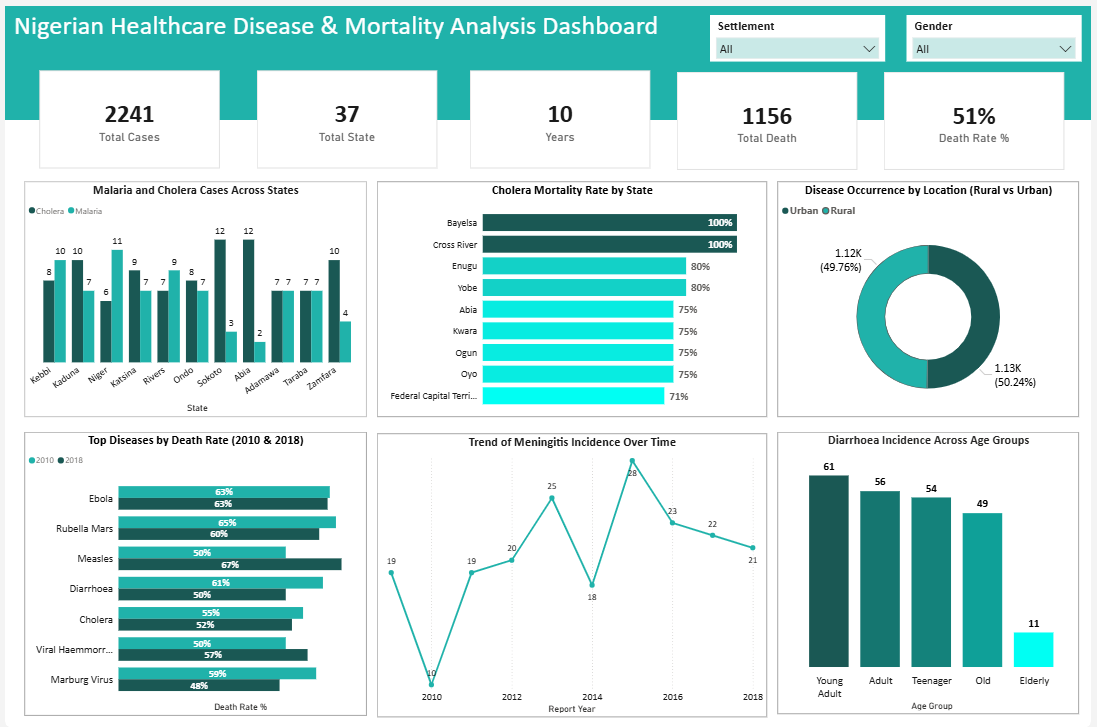

The page's visual inventory and layout, read from the dashboard file:
{"tool":"powerbi","page":{"name":"Dashboard Overview","canvas":[1805,1200],"ordinal":1},"visuals":[{"type":"shape","box":[29.1,14.6,1756.4,1166.9],"z":0},{"type":"shape","box":[29.1,14.6,1756.4,184.4],"z":1000},{"type":"card","fields":{"Values":["Disease dataset.Total State"]},"box":[436.7,118.9,291.1,157.7],"z":2000},{"type":"card","fields":{"Values":["Disease dataset.Total Cases"]},"box":[84.9,118.9,291.1,157.7],"z":3000},{"type":"card","fields":{"Values":["Disease dataset.Years"]},"box":[781.1,118.9,291.1,157.7],"z":4000},{"type":"card","fields":{"Values":["Disease dataset.Total Death"]},"box":[1115.9,121.3,291.1,157.7],"z":5000},{"type":"clusteredColumnChart","title":"Malaria and Cholera Cases Across States","fields":{"Category":["Disease dataset.State"],"Series":["Disease dataset.Disease"],"Y":["Disease dataset.Total Cases"]},"box":[60.6,298.4,553.1,380.9],"z":6000},{"type":"card","fields":{"Values":["Disease dataset.Death Rate %"]},"box":[1450.7,121.3,291.1,157.7],"z":7000},{"type":"donutChart","title":"Disease Occurrence by Location (Rural vs Urban)","fields":{"Category":["Disease dataset.Settlement"],"Y":["CountNonNull(Disease dataset.Disease)"]},"box":[1278.5,298.4,487.6,380.9],"z":8000},{"type":"clusteredBarChart","title":"Top Diseases by Death Rate (2010 & 2018)","fields":{"Category":["Disease dataset.Disease"],"Y":["Disease dataset.Death Rate %"],"Series":["Disease dataset.Report Year"]},"box":[60.6,703.5,553.1,458.5],"z":9000},{"type":"lineChart","title":"Trend of Meningitis Incidence Over Time","fields":{"Y":["Disease dataset.Total Cases"],"Category":["Disease dataset.Report Year"]},"box":[630.7,705.9,630.7,458.5],"z":10000},{"type":"columnChart","title":"Diarrhoea Incidence Across Age Groups","fields":{"Category":["Disease dataset.Age Group"],"Y":["CountNonNull(Disease dataset.Disease)"]},"box":[1278.5,703.5,487.6,456.1],"z":11000},{"type":"clusteredBarChart","title":"Cholera Mortality Rate by State","fields":{"Category":["Disease dataset.State"],"Y":["Disease dataset.Cholera Death Rate %"]},"box":[630.7,298.4,630.7,380.9],"z":12000},{"type":"textbox","box":[29.7,13.5,1087.6,91.8],"z":13000},{"type":"slicer","fields":{"Values":["Disease dataset.Gender"]},"box":[1487.9,29.7,283,75.6],"z":14000},{"type":"slicer","fields":{"Values":["Disease dataset.Settlement"]},"box":[1168.5,29.7,283.4,75.6],"z":15000}]}

Visuals, with their boxes in screenshot pixels (x1, y1, x2, y2), scaled from the page's 1805x1200 canvas onto the 1097x727 screenshot:
shape: BBox(18, 9, 1085, 716)
shape: BBox(18, 9, 1085, 121)
card - Disease dataset.Total State: BBox(265, 72, 442, 168)
card - Disease dataset.Total Cases: BBox(52, 72, 229, 168)
card - Disease dataset.Years: BBox(475, 72, 652, 168)
card - Disease dataset.Total Death: BBox(678, 73, 855, 169)
"Malaria and Cholera Cases Across States" clusteredColumnChart: BBox(37, 181, 373, 412)
card - Disease dataset.Death Rate %: BBox(882, 73, 1059, 169)
"Disease Occurrence by Location (Rural vs Urban)" donutChart: BBox(777, 181, 1073, 412)
"Top Diseases by Death Rate (2010 & 2018)" clusteredBarChart: BBox(37, 426, 373, 704)
"Trend of Meningitis Incidence Over Time" lineChart: BBox(383, 428, 767, 705)
"Diarrhoea Incidence Across Age Groups" columnChart: BBox(777, 426, 1073, 703)
"Cholera Mortality Rate by State" clusteredBarChart: BBox(383, 181, 767, 412)
textbox: BBox(18, 8, 679, 64)
slicer - Disease dataset.Gender: BBox(904, 18, 1076, 64)
slicer - Disease dataset.Settlement: BBox(710, 18, 882, 64)
